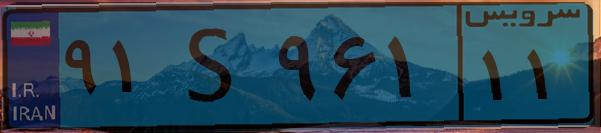1: (385, 28, 445, 110), (475, 38, 525, 113), (525, 38, 570, 115), (110, 28, 158, 98)
6: (330, 28, 385, 110)
9: (270, 28, 330, 110), (57, 26, 110, 100)
S: (158, 12, 270, 120)
